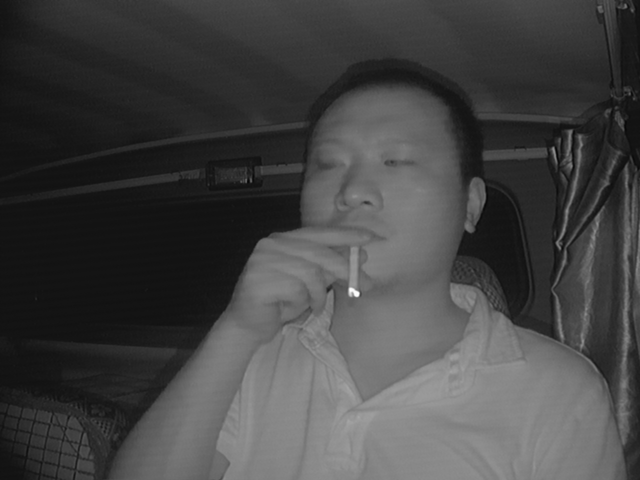hand: (257, 214, 370, 332)
